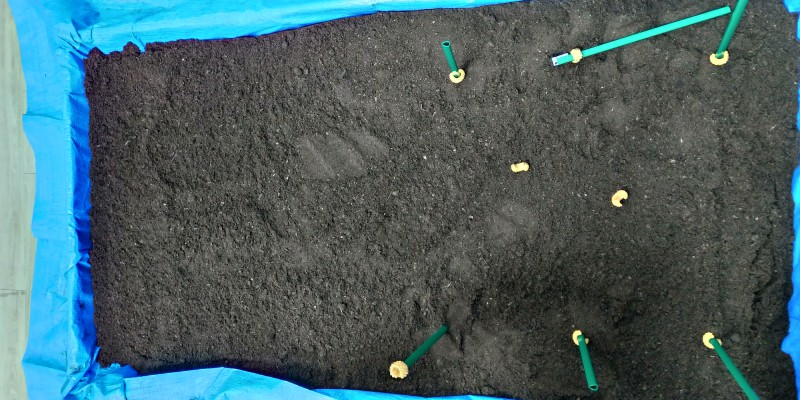eggs: (384, 357, 414, 384), (699, 323, 725, 353), (704, 48, 734, 71), (571, 324, 592, 351), (608, 186, 632, 209), (508, 156, 532, 177), (566, 42, 584, 68), (446, 67, 467, 85)
